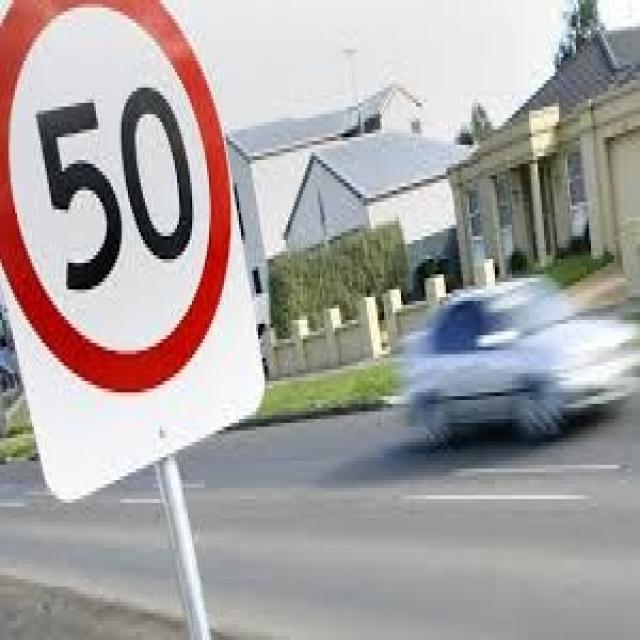speed_limit_50: (0, 0, 234, 392)
